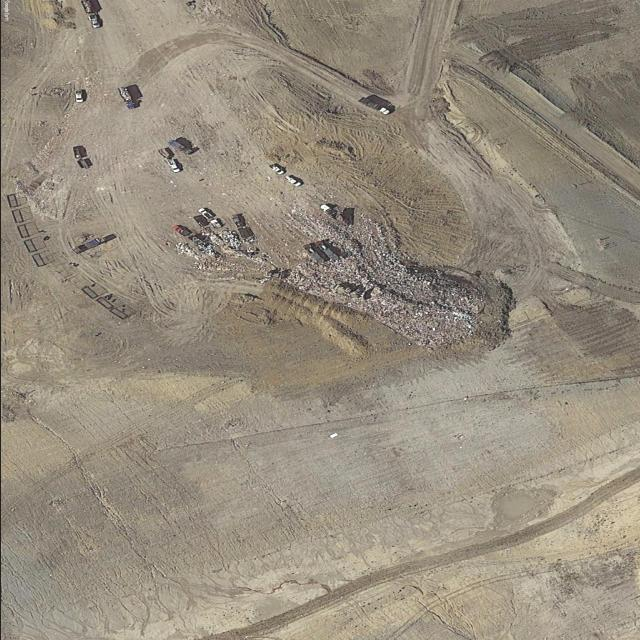dump_site: (275, 205, 514, 358), (188, 238, 225, 263), (172, 241, 204, 262), (219, 230, 243, 251), (117, 87, 131, 102), (79, 0, 94, 14)
